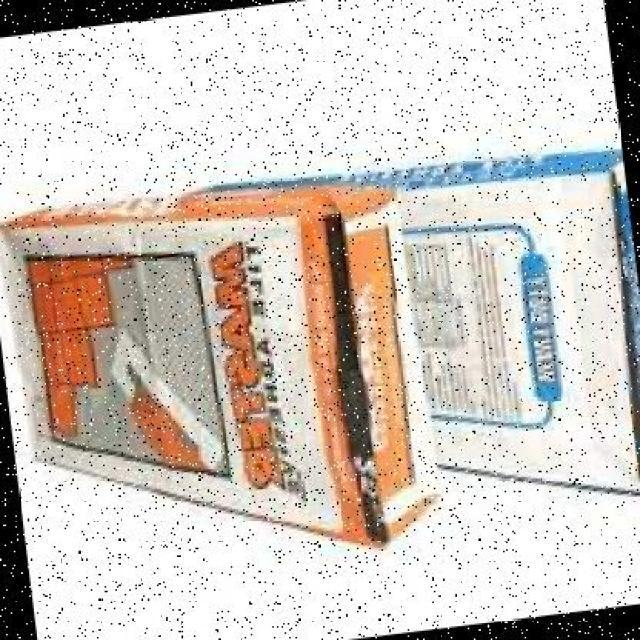gunny_bag: (0, 223, 379, 540), (394, 170, 640, 487)
